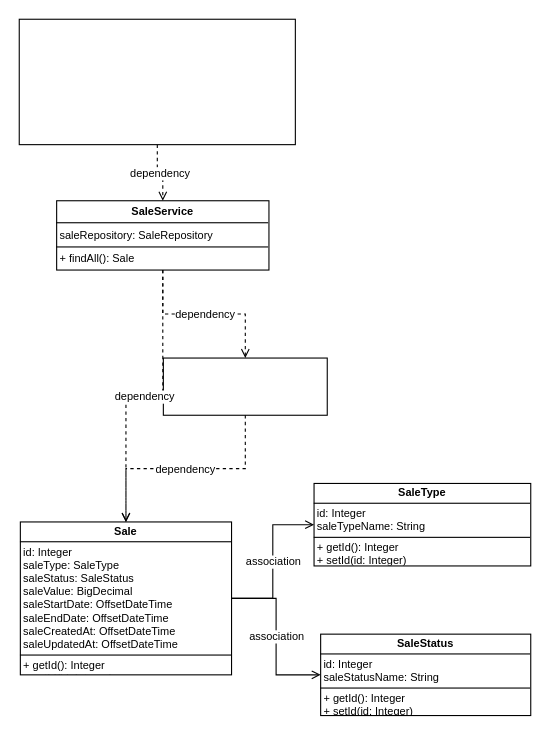
Image size: 550x735. Some labels were removed from this diagram. Here are the shapes that lost their labels. From the top down, the centre of each, then its label:
At [156,81]: "SaleRestController - saleService: SaleService + getAllSales(): Object".
At [244,386]: "SaleRepository + findAll(): Sale".
